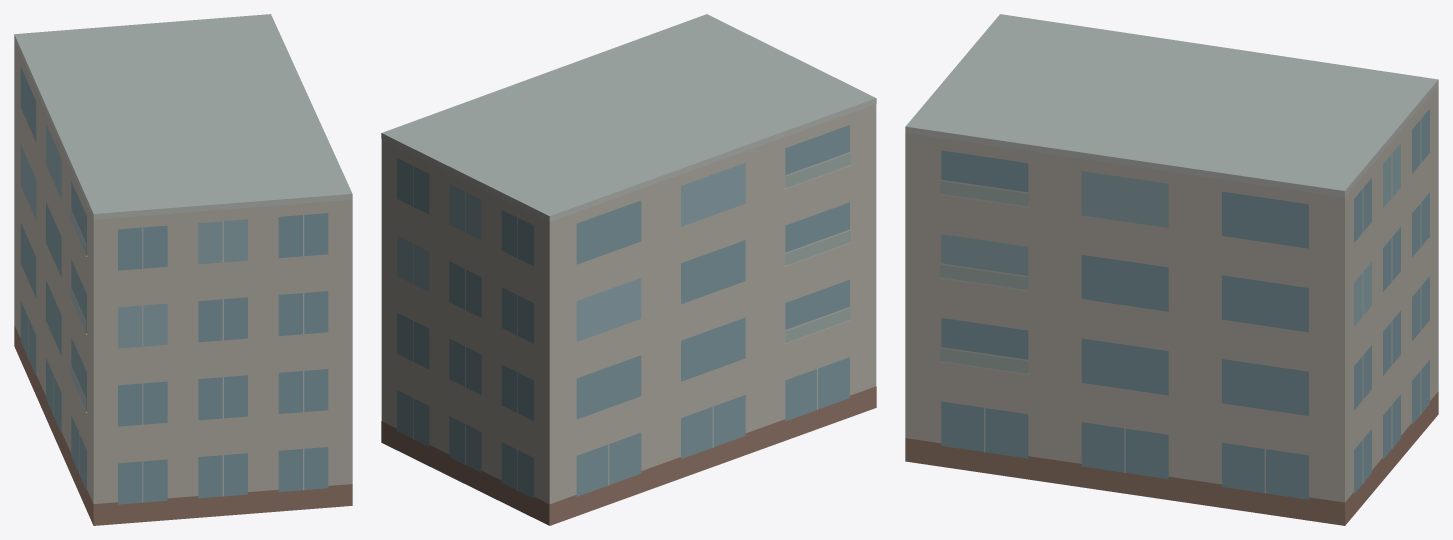
Rendered from survey-upis-32704592.glb.
3 views of the same model, side by side, from view 1: azimuth 30°, elevation 25°; view 2: azimuth 150°, elevation 25°; view 3: azimuth 270°, elevation 25° (orthographic). The views are drawn at different scales.
Parts seen in each view (by area): view 1: survey-upis-32704592.tmp; view 2: survey-upis-32704592.tmp; view 3: survey-upis-32704592.tmp.
Boxes of the visible parts, x1=… form: survey-upis-32704592.tmp: x1=14, y1=14, x2=352, y2=525; survey-upis-32704592.tmp: x1=381, y1=14, x2=876, y2=525; survey-upis-32704592.tmp: x1=905, y1=14, x2=1438, y2=525.
Size of the model in its own units: 15.04 by 13.25 by 19.13.
